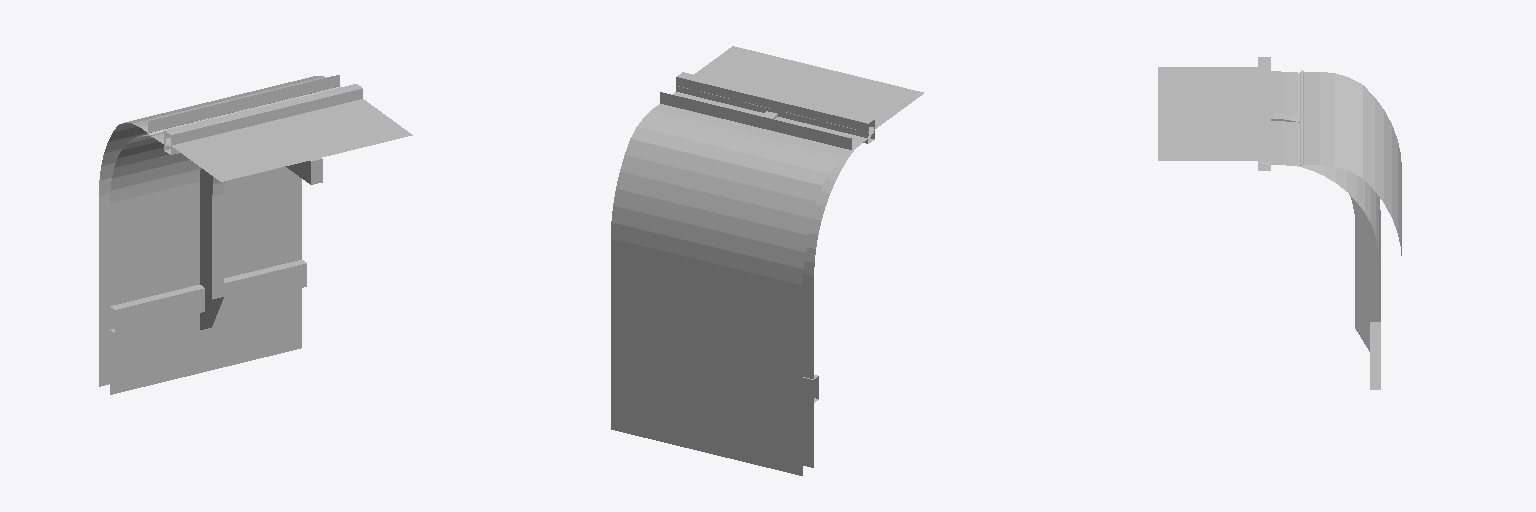
Rendered from Overhang_Plaster_Long.obj.
3 views of the same model, side by side, from view 1: azimuth 30°, elevation 25°; view 2: azimuth 150°, elevation 25°; view 3: azimuth 270°, elevation 25° (orthographic).
Parts seen in each view (by area): view 1: Overhang_Plaster_Long; view 2: Overhang_Plaster_Long; view 3: Overhang_Plaster_Long.
Boxes of the visible parts, box(x1,y1,x2,y2) form: Overhang_Plaster_Long: box(99, 75, 412, 394); Overhang_Plaster_Long: box(611, 46, 923, 475); Overhang_Plaster_Long: box(1158, 57, 1401, 389).
Bounding box in the file's own units: 2 × 3.03 × 2.2.